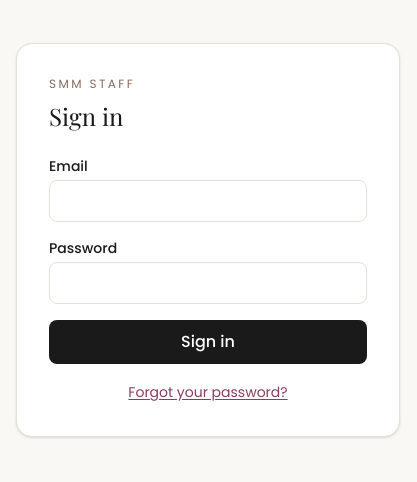
Test: signing in › shows sign-in when there is no session, and a neutral message for a wrong password
Type "owner@example.com" into the field labelled "Email" at {"x": 208, "y": 201}, box [49,180,367,222]
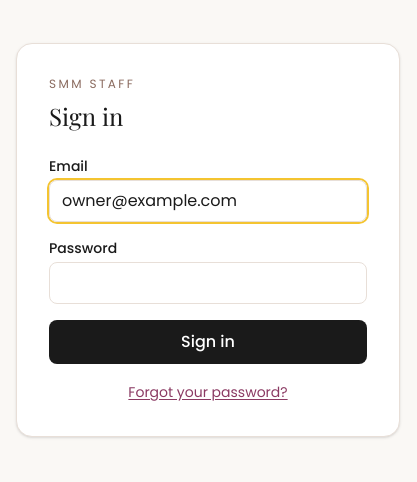
Type "wrong password" into the password field labelled "Password" at {"x": 208, "y": 283}, box [49,262,367,304]
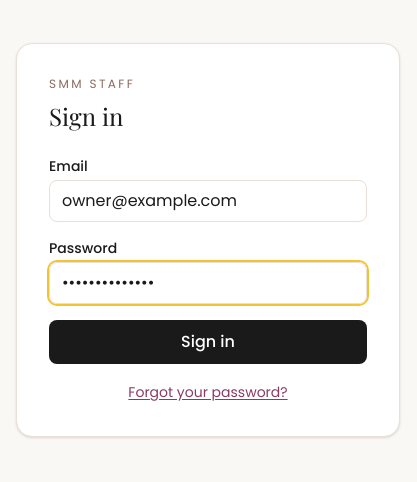
Click the button "Sign in" at {"x": 208, "y": 342}, box [49,320,367,364]
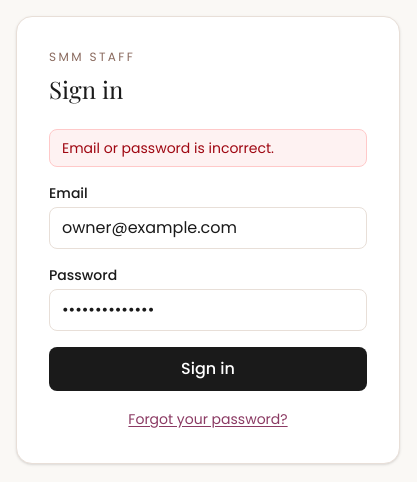
Expected: the message reads "Email or password is incorrect.", [62,138,274,158]
